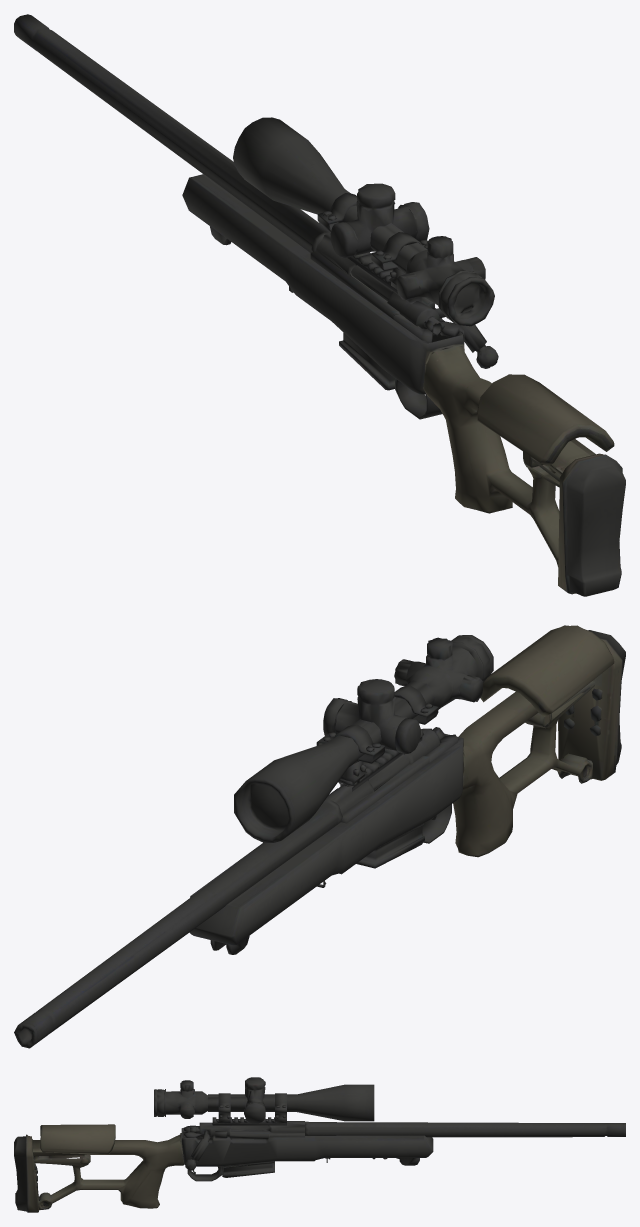
The model's file is awm.glb.
3 views of the same model, one above another, from view 1: azimuth 30°, elevation 25°; view 2: azimuth 150°, elevation 25°; view 3: azimuth 270°, elevation 25° (orthographic). The views are drawn at different scales.
Parts seen in each view (by area): view 1: tripo_node_f7216ae9-b573-46c0-b15b-32f269fb4eab; view 2: tripo_node_f7216ae9-b573-46c0-b15b-32f269fb4eab; view 3: tripo_node_f7216ae9-b573-46c0-b15b-32f269fb4eab.
Part boxes in pixels (<box>): tripo_node_f7216ae9-b573-46c0-b15b-32f269fb4eab: <box>14,14,625,596</box>; tripo_node_f7216ae9-b573-46c0-b15b-32f269fb4eab: <box>14,625,625,1048</box>; tripo_node_f7216ae9-b573-46c0-b15b-32f269fb4eab: <box>14,1077,625,1212</box>.
Bounding box in the file's own units: 0.4607 × 1.1 × 4.8.
1 material, 1 textured.
